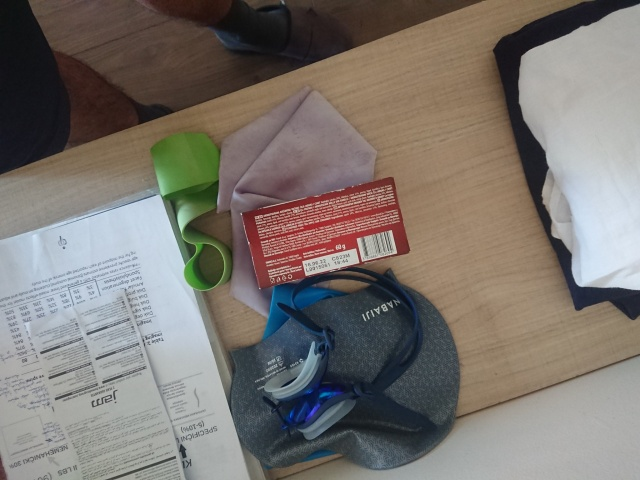Franck Apple Cinnamon Tea 60g: (238, 174, 412, 290)
